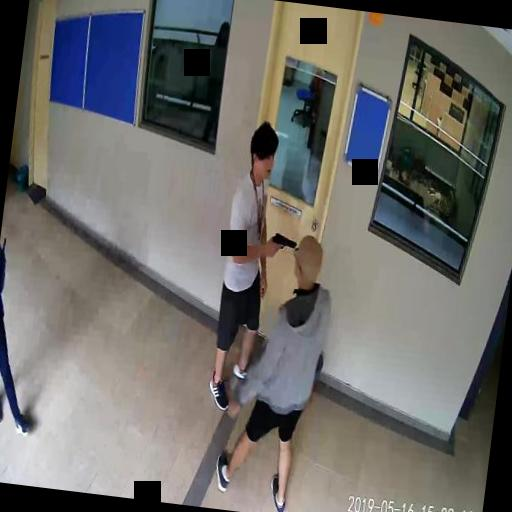Handgun: (267, 230, 296, 260)
